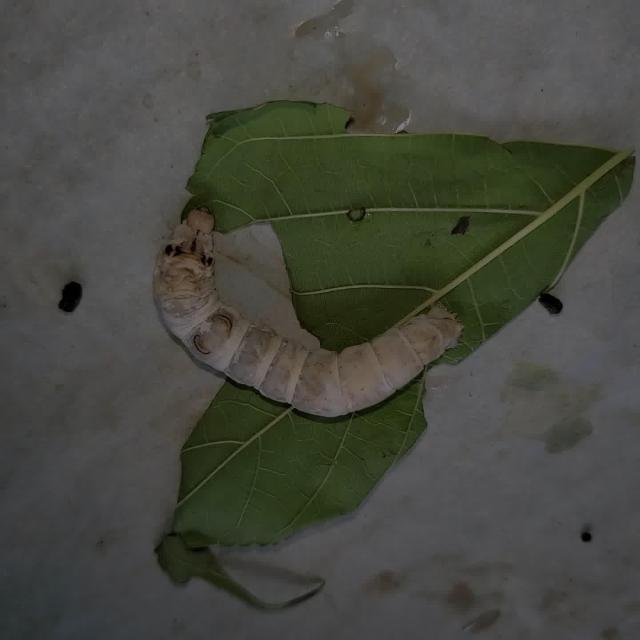Grasserie: (148, 193, 474, 418)
